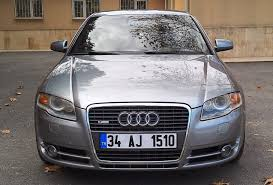audi: (114, 109, 160, 131)
